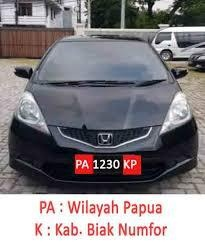plate: (72, 154, 141, 177)
